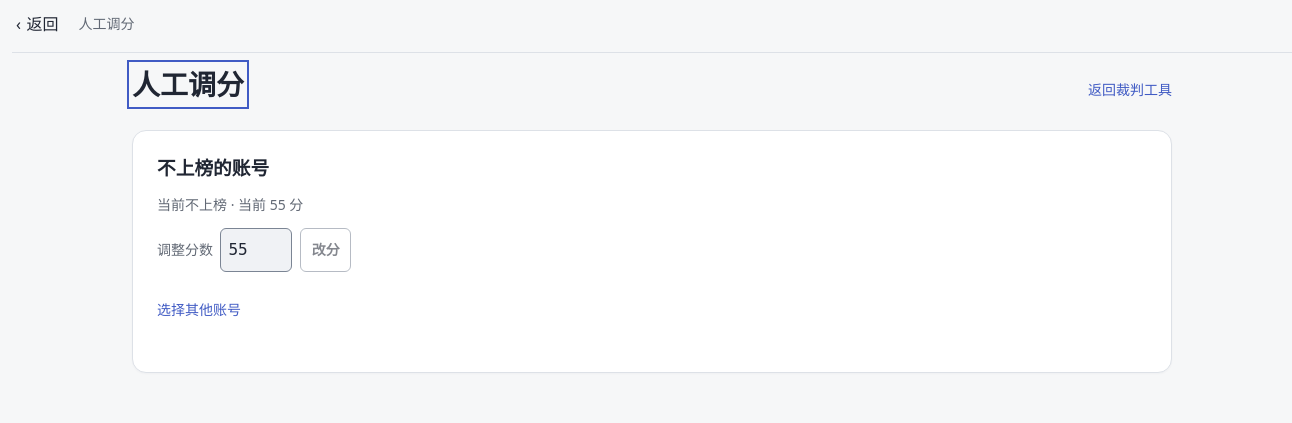
Test case: manual score correction › shows a write failure without losing the chosen score
The width and height of the screenshot is (1292, 423).
Replace the text in the number field labelled "调整分数" with "70" at (256, 250), box [220,228,292,272]
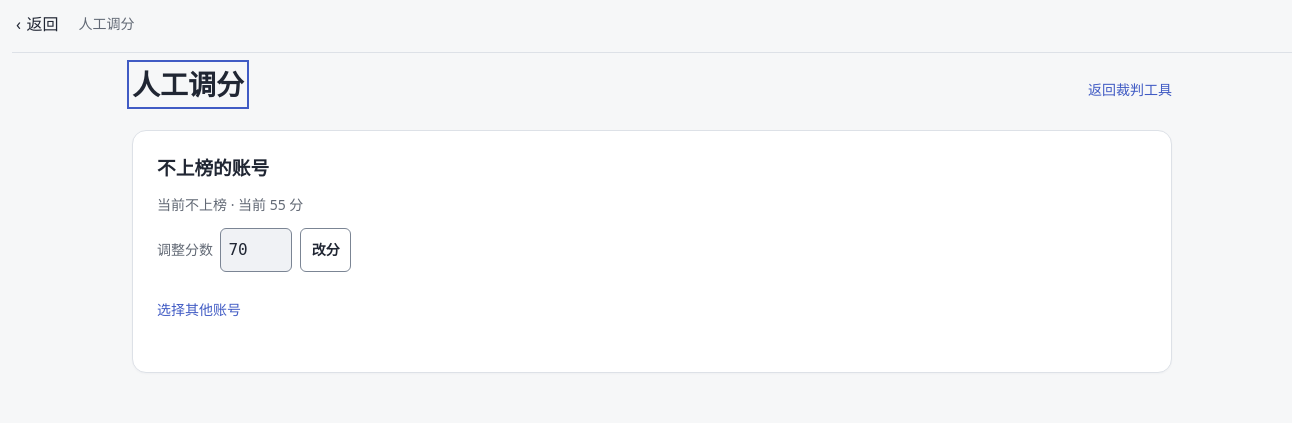
Click the button "改分" at (326, 250), box [300,228,351,272]
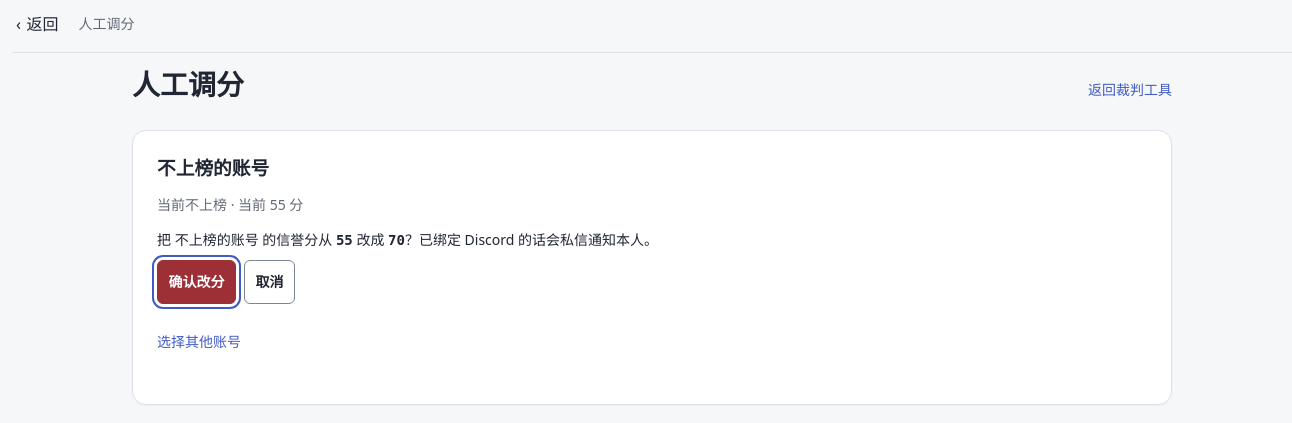
Click the button "确认改分" at (196, 282), box [157,260,236,304]
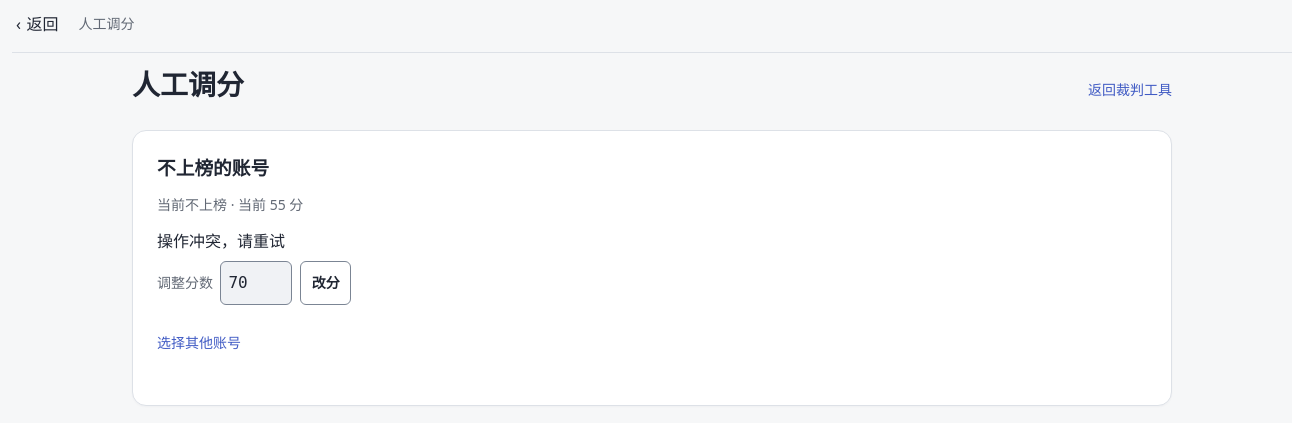
Now the message shows "操作冲突", box [157,230,285,252]
Now the number field holds "70", box [220,261,292,305]
